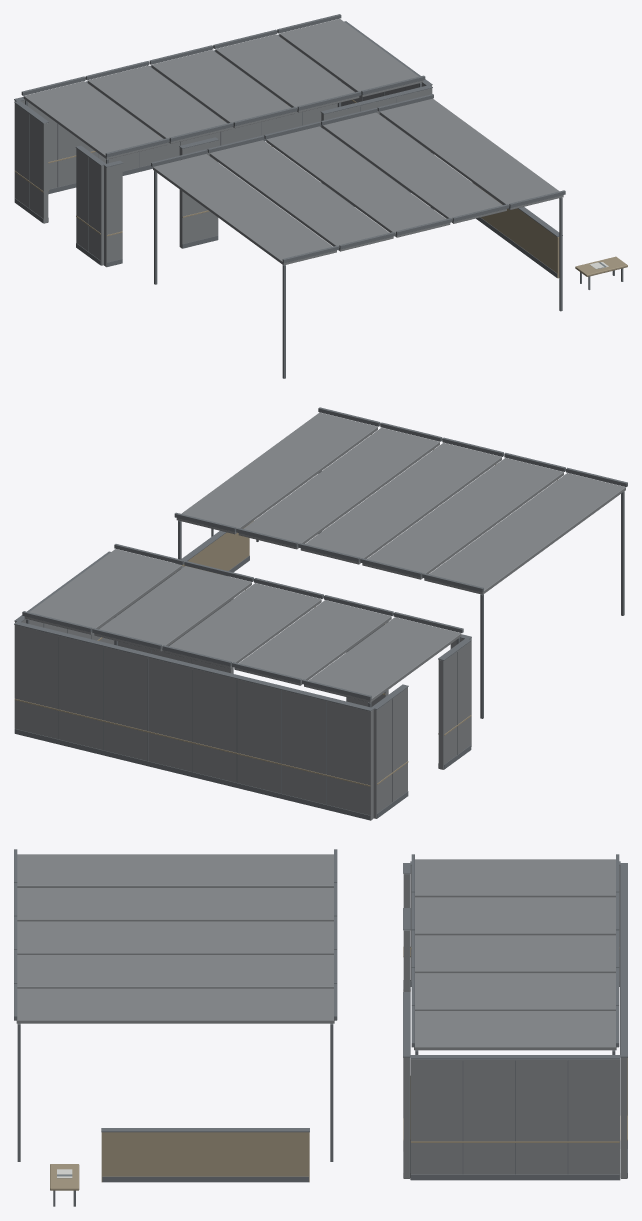
Rendered from BL_RI_W02_Interior.fbx.
3 renders of one model, top to bottom at view 1: azimuth 30°, elevation 25°; view 2: azimuth 150°, elevation 25°; view 3: azimuth 270°, elevation 25°, orthographic. The views are drawn at different scales.
Visible parts, largest first — view 1: BL_RI_W02_Interior; view 2: BL_RI_W02_Interior; view 3: BL_RI_W02_Interior.
Boxes of the visible parts, left/top/right/bottom form: BL_RI_W02_Interior: left=14, top=14, right=627, bottom=378; BL_RI_W02_Interior: left=14, top=407, right=627, bottom=820; BL_RI_W02_Interior: left=14, top=849, right=627, bottom=1206.
Size of the model in its own units: 1151 by 350 by 1328.
